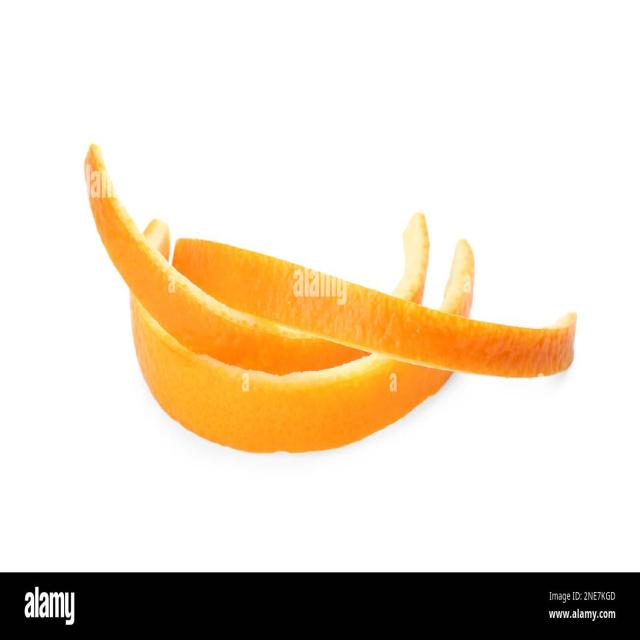organic: (83, 144, 579, 455)
